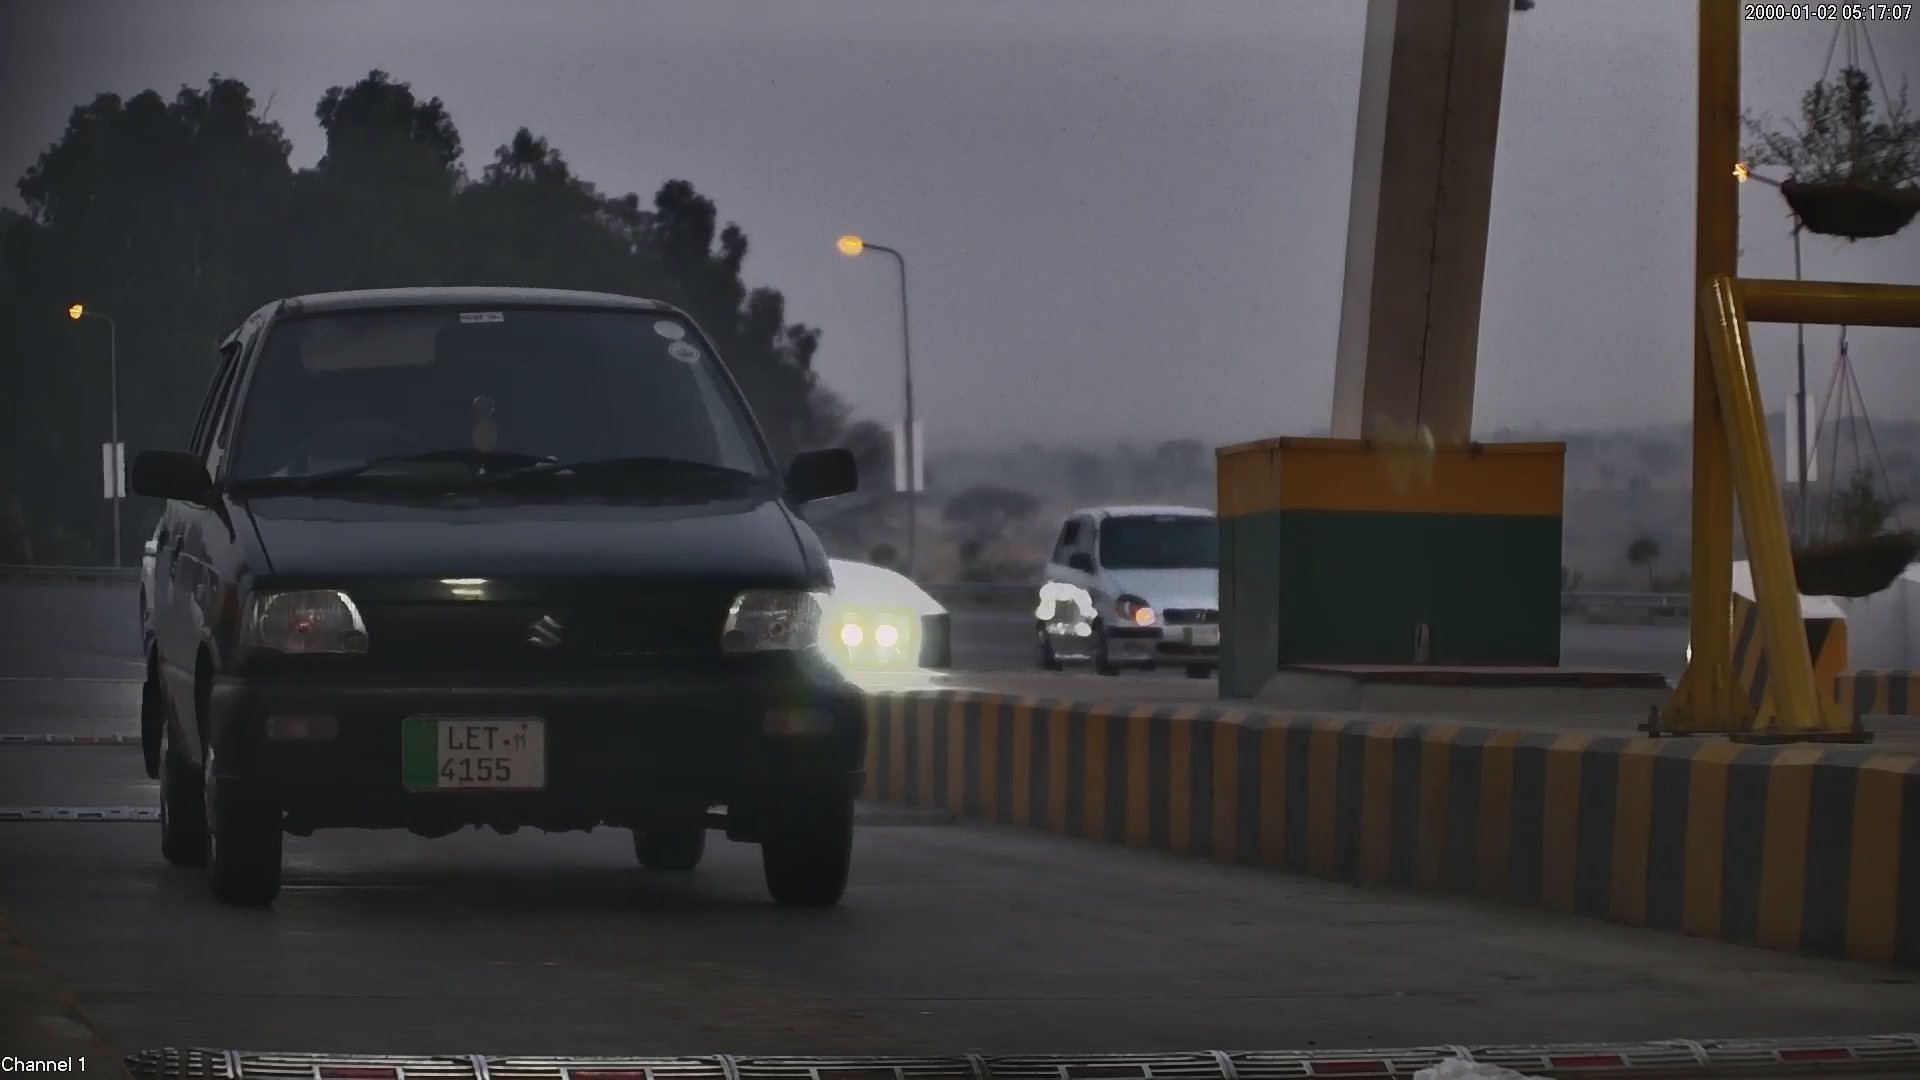Number_Plate: (387, 704, 559, 802)
